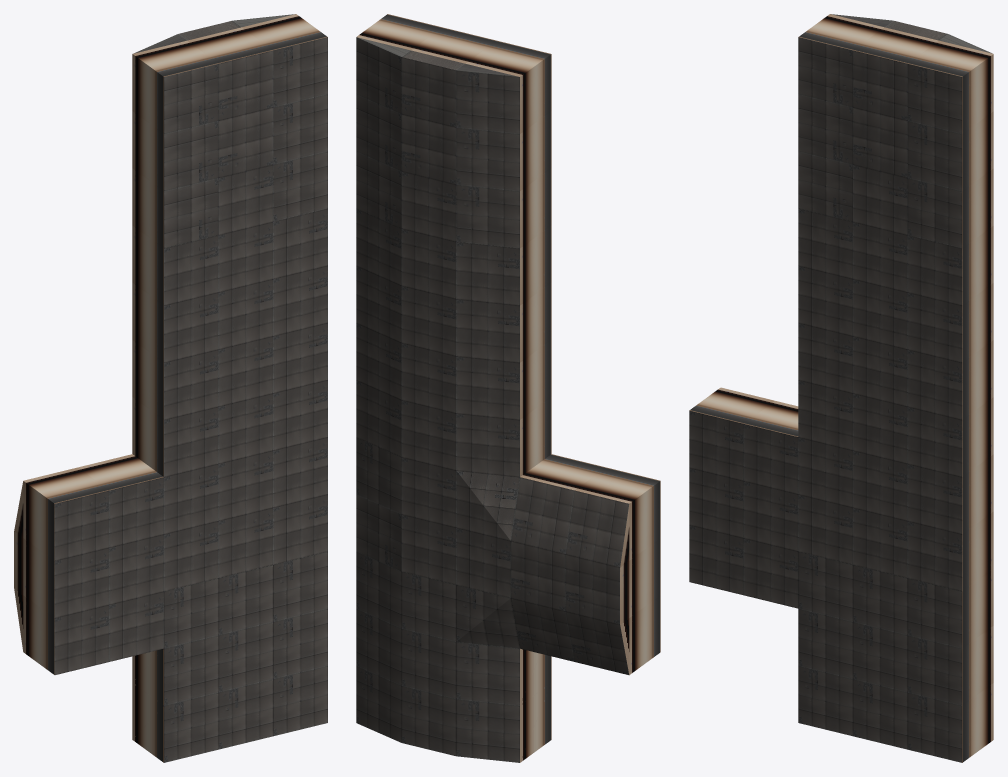
The model's file is building2.dae.
3 renders of one model, left to right at view 1: azimuth 30°, elevation 25°; view 2: azimuth 150°, elevation 25°; view 3: azimuth 330°, elevation 25°, orthographic.
Parts seen in each view (by area): view 1: Cube; view 2: Cube; view 3: Cube.
Part boxes in pixels (x1=…): Cube: x1=14, y1=14, x2=327, y2=762; Cube: x1=356, y1=14, x2=660, y2=762; Cube: x1=689, y1=14, x2=993, y2=762.
Size of the model in its own units: 5 by 1.29 by 12.
